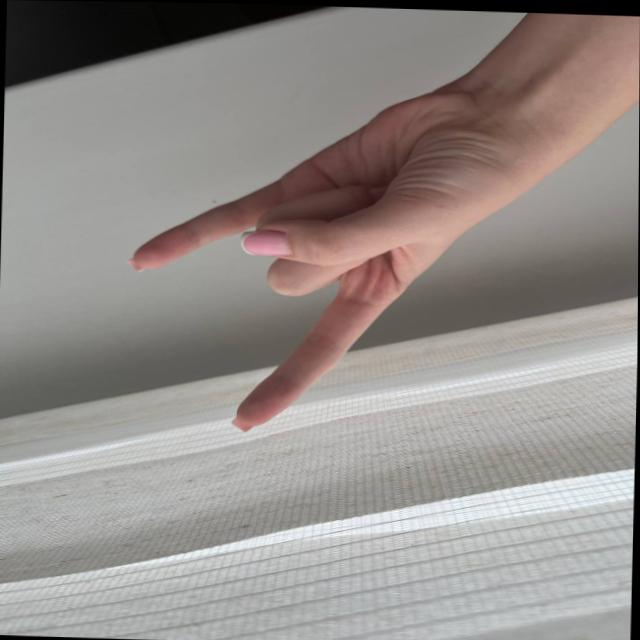y: (116, 90, 485, 428)
